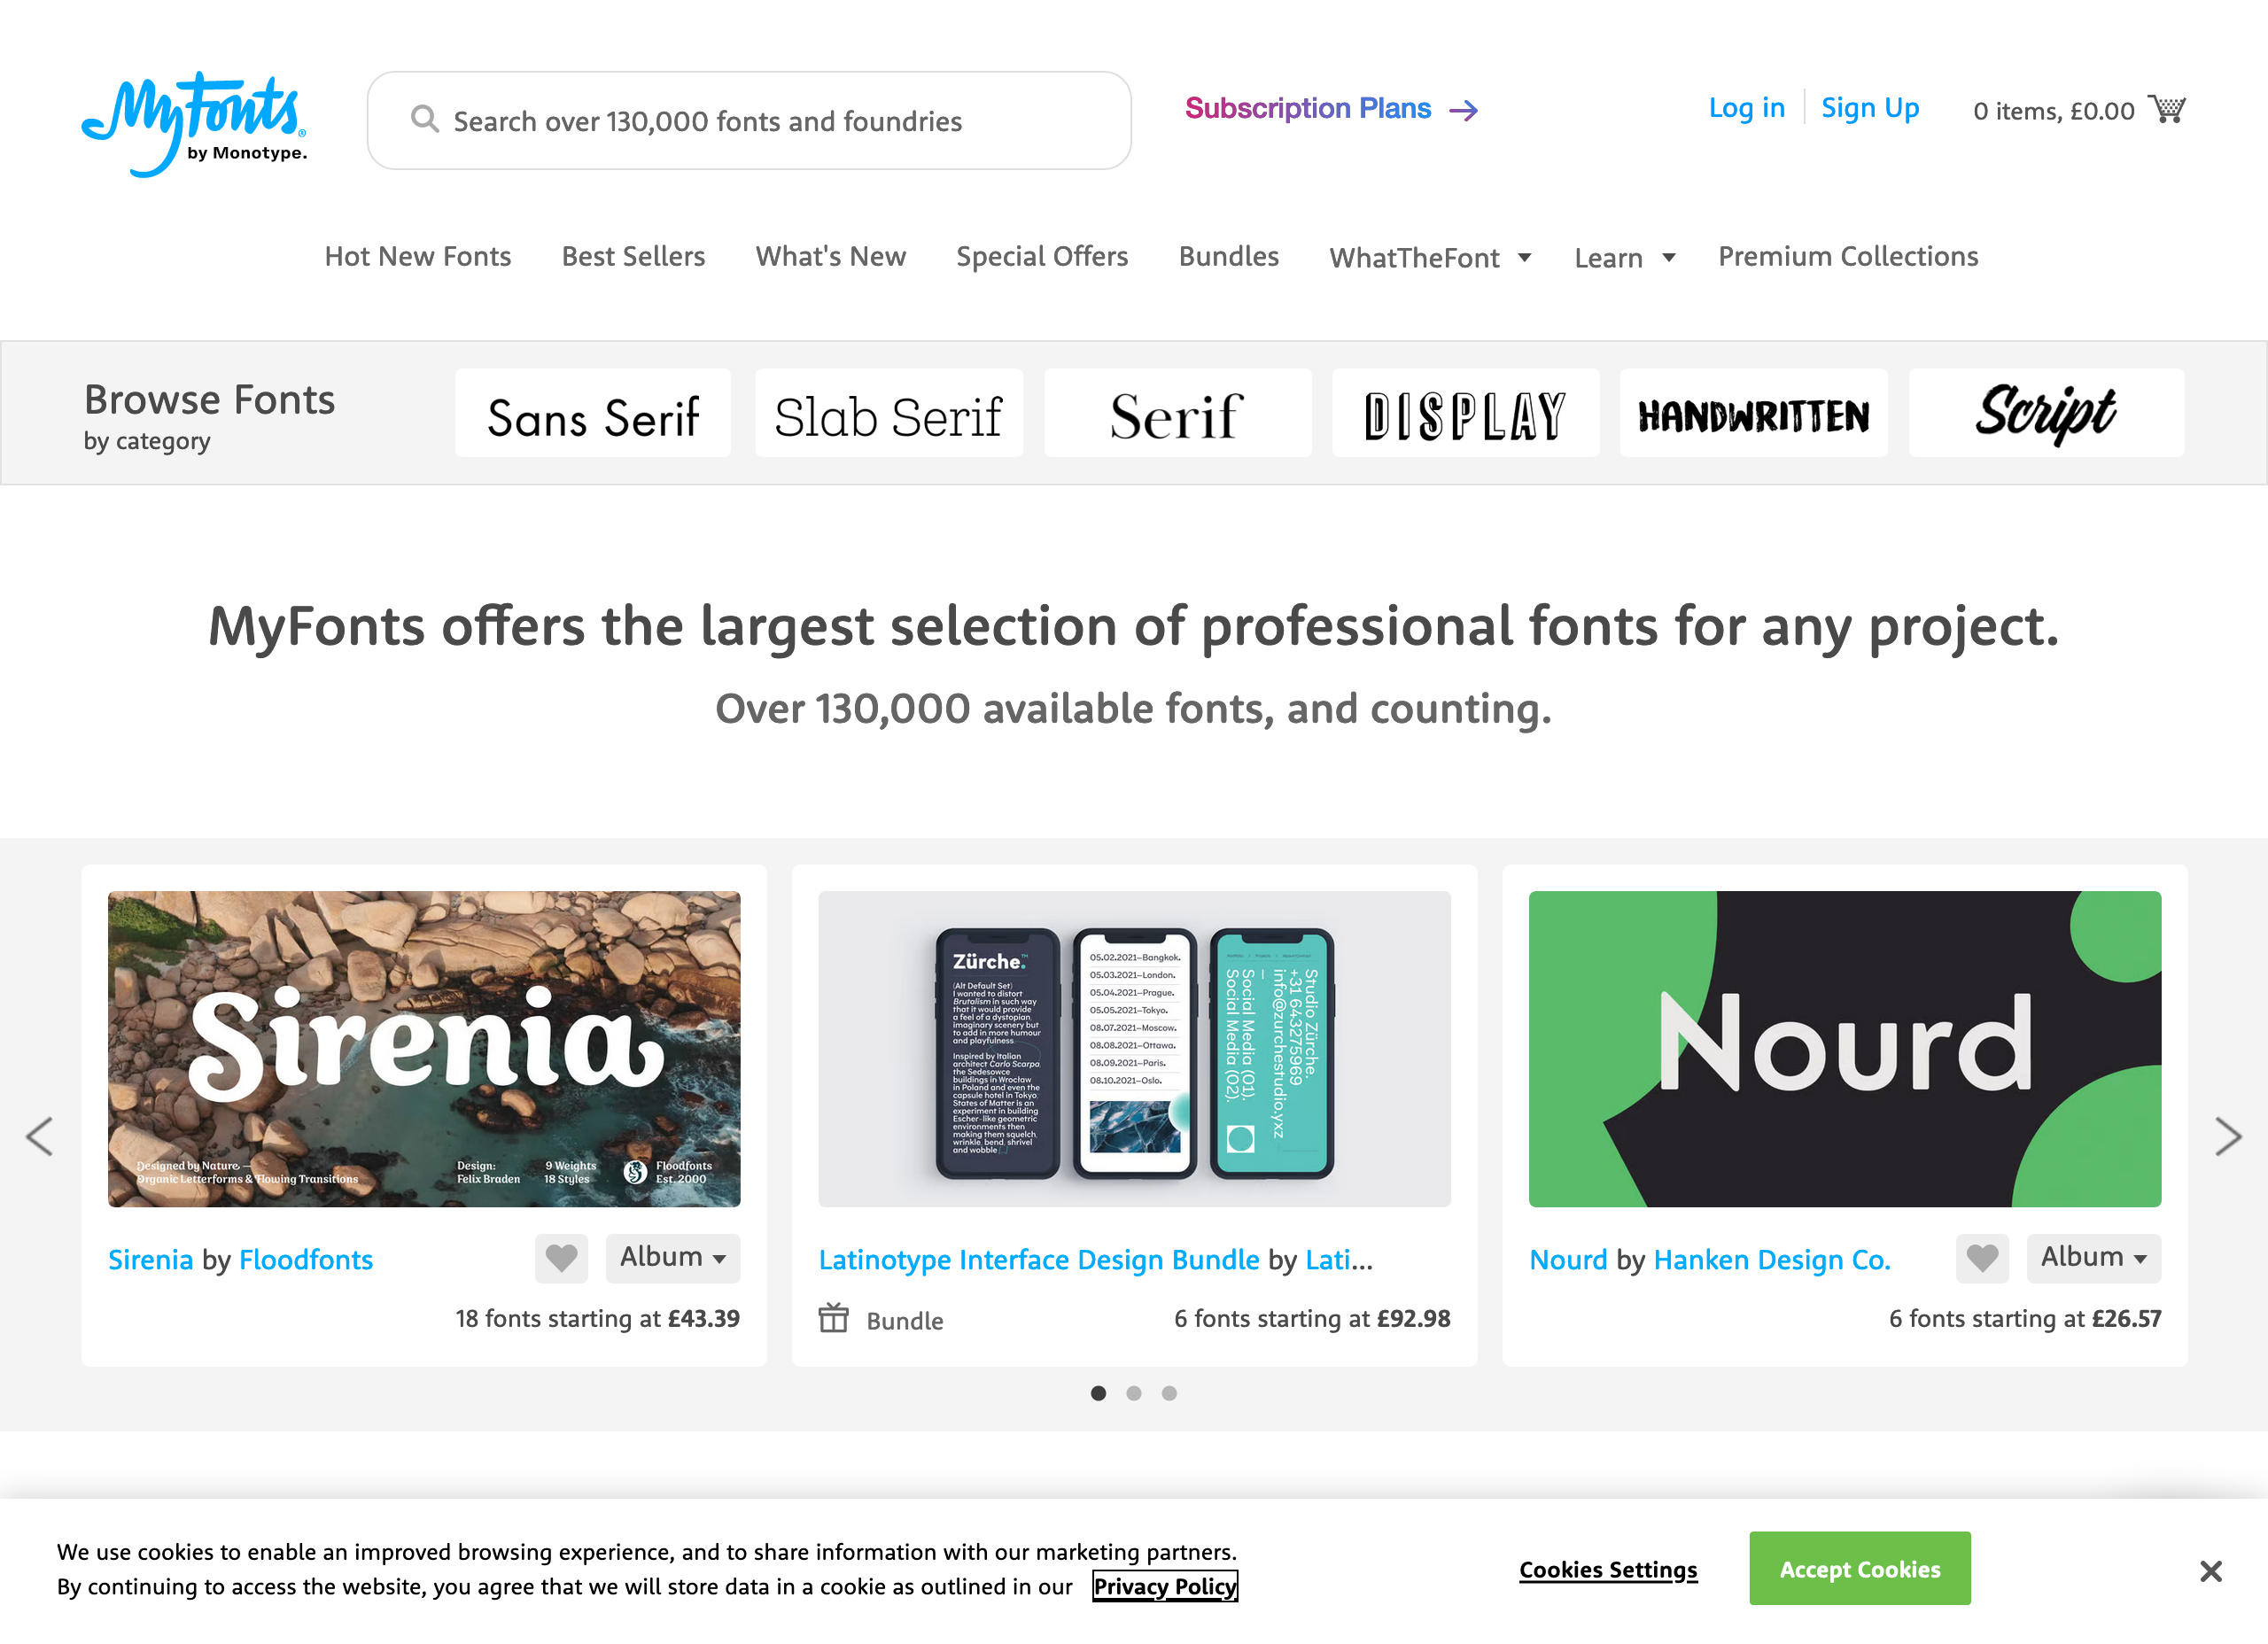Login: (1696, 83, 1794, 130)
